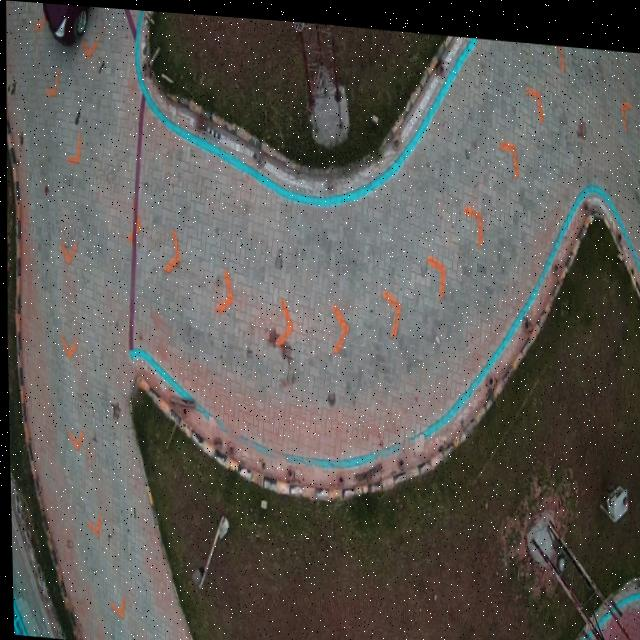car: (42, 2, 88, 43)
